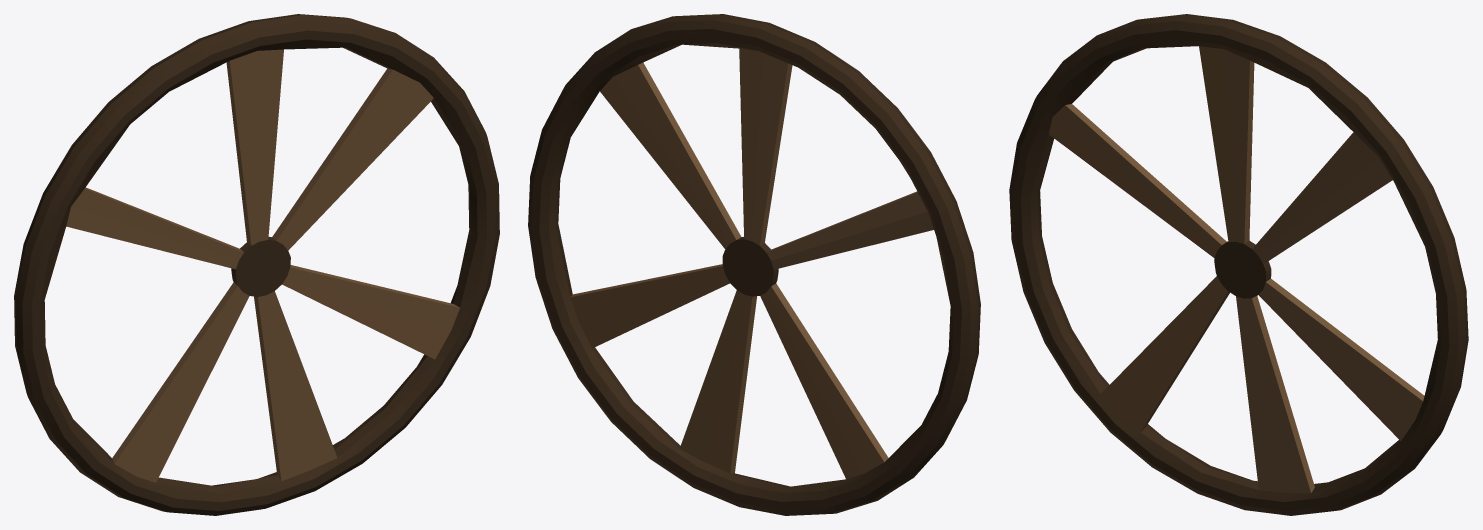
Rendered from Wheel.fbx.
3 renders of one model, left to right at view 1: azimuth 30°, elevation 25°; view 2: azimuth 150°, elevation 25°; view 3: azimuth 330°, elevation 25°, orthographic. The views are drawn at different scales.
Parts seen in each view (by area): view 1: pCylinder17; view 2: pCylinder17; view 3: pCylinder17.
Part boxes in pixels (<box>): pCylinder17: <box>14,14,499,515</box>; pCylinder17: <box>528,14,980,515</box>; pCylinder17: <box>1009,14,1468,515</box>.
Size of the model in its own units: 2.07 by 2.08 by 0.217.
